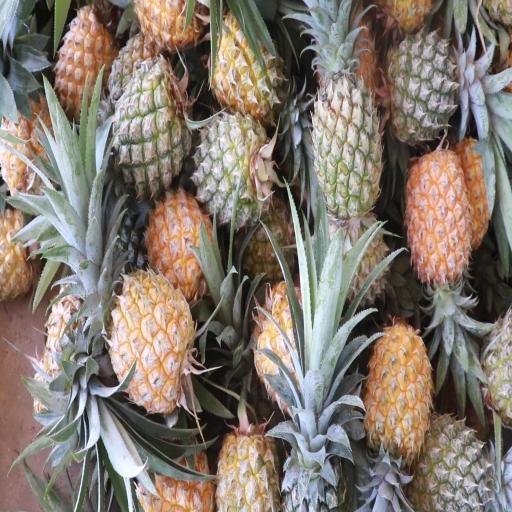Pineapple - v8 v1: (106, 263, 197, 420), (364, 319, 435, 470), (404, 145, 473, 297), (208, 5, 282, 128), (146, 187, 218, 307), (55, 5, 121, 128), (212, 416, 283, 512)
